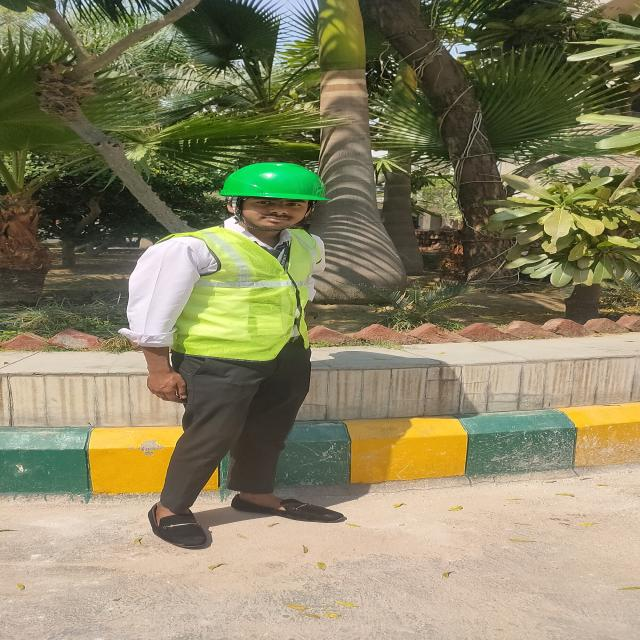safe: (129, 163, 331, 547)
